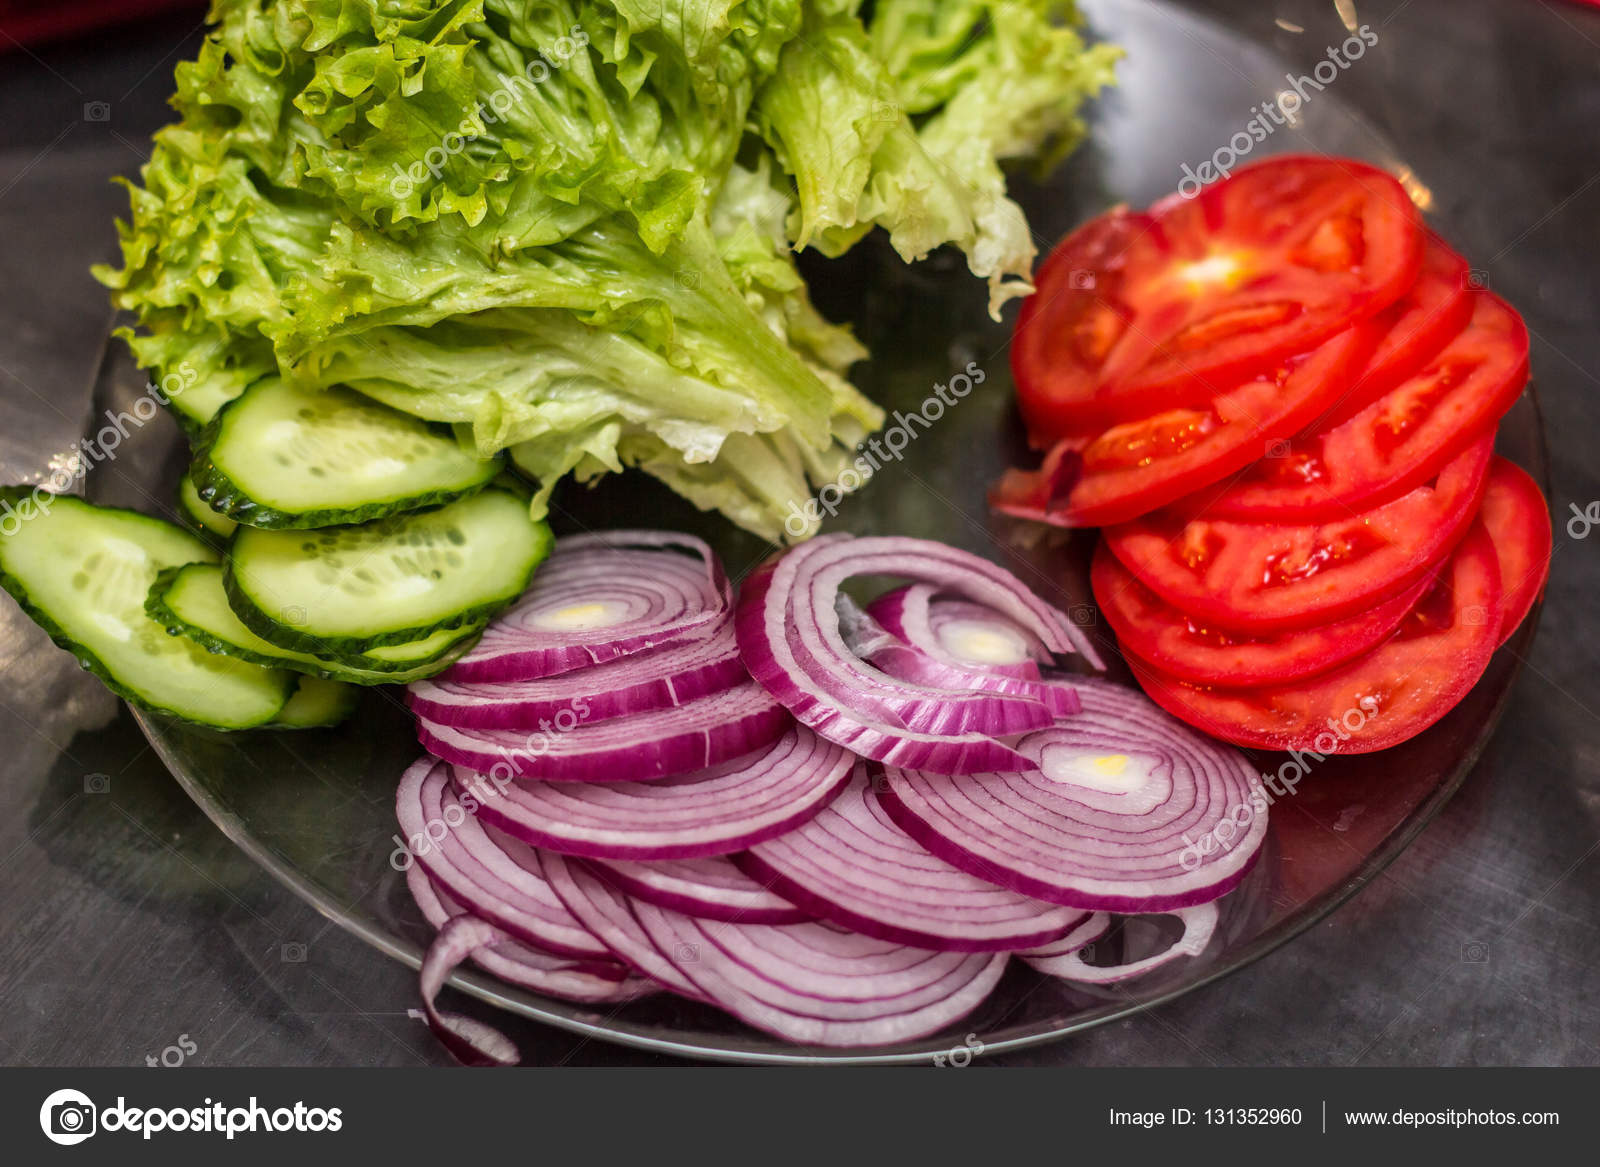chopped lettuce: (216, 31, 880, 411)
